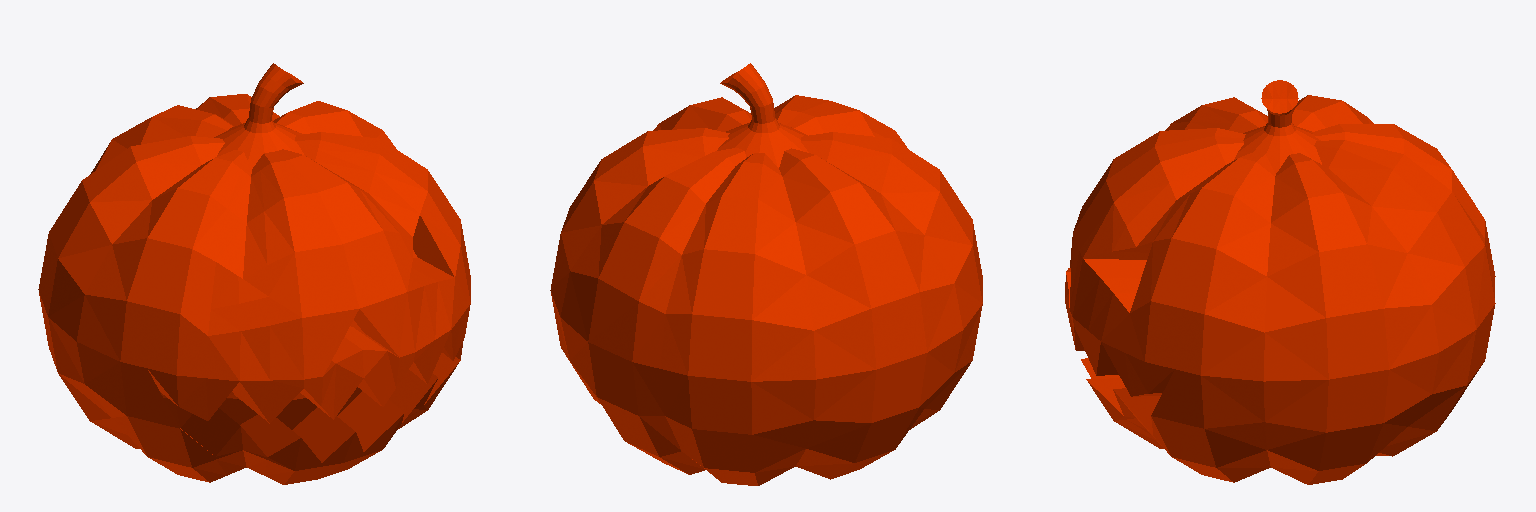
The picture shows the model from 3 angles: view 1: azimuth 30°, elevation 25°; view 2: azimuth 150°, elevation 25°; view 3: azimuth 270°, elevation 25°; orthographic projection.
Parts seen in each view (by area): view 1: Cylinder001; view 2: Cylinder001; view 3: Cylinder001.
Part boxes in pixels (x1,y1,x2,y2): Cylinder001: (38,63,470,484); Cylinder001: (550,63,982,485); Cylinder001: (1065,80,1495,484).
Size of the model in its own units: 107 by 101 by 107.
Materials: 1 (1 with a texture image).